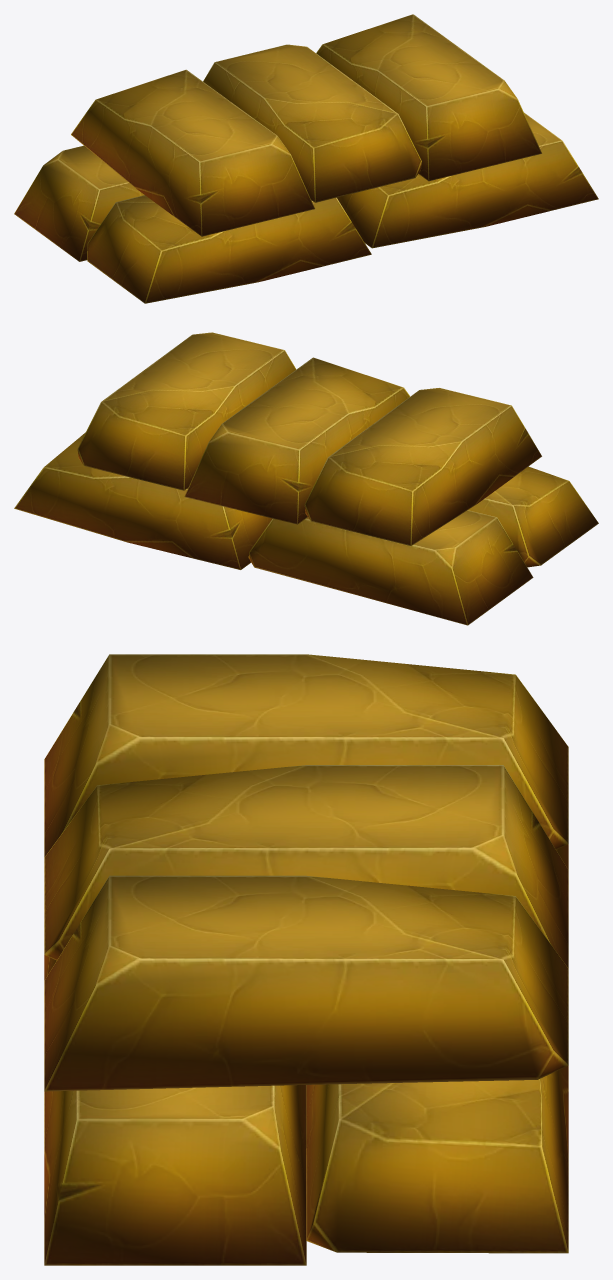
File: Gold_Pile_4.glb
The picture shows the model from 3 angles, top to bottom: view 1: azimuth 30°, elevation 25°; view 2: azimuth 150°, elevation 25°; view 3: azimuth 270°, elevation 25°; orthographic projection. The views are drawn at different scales.
Parts seen in each view (by area): view 1: Gold-15; view 2: Gold-15; view 3: Gold-15.
Boxes of the visible parts, left/top/right/bottom form: Gold-15: left=14, top=14, right=598, bottom=303; Gold-15: left=14, top=332, right=598, bottom=625; Gold-15: left=44, top=654, right=568, bottom=1265.
Size of the model in its own units: 0.66 by 0.165 by 0.33.
Materials: 1 (1 with a texture image).
